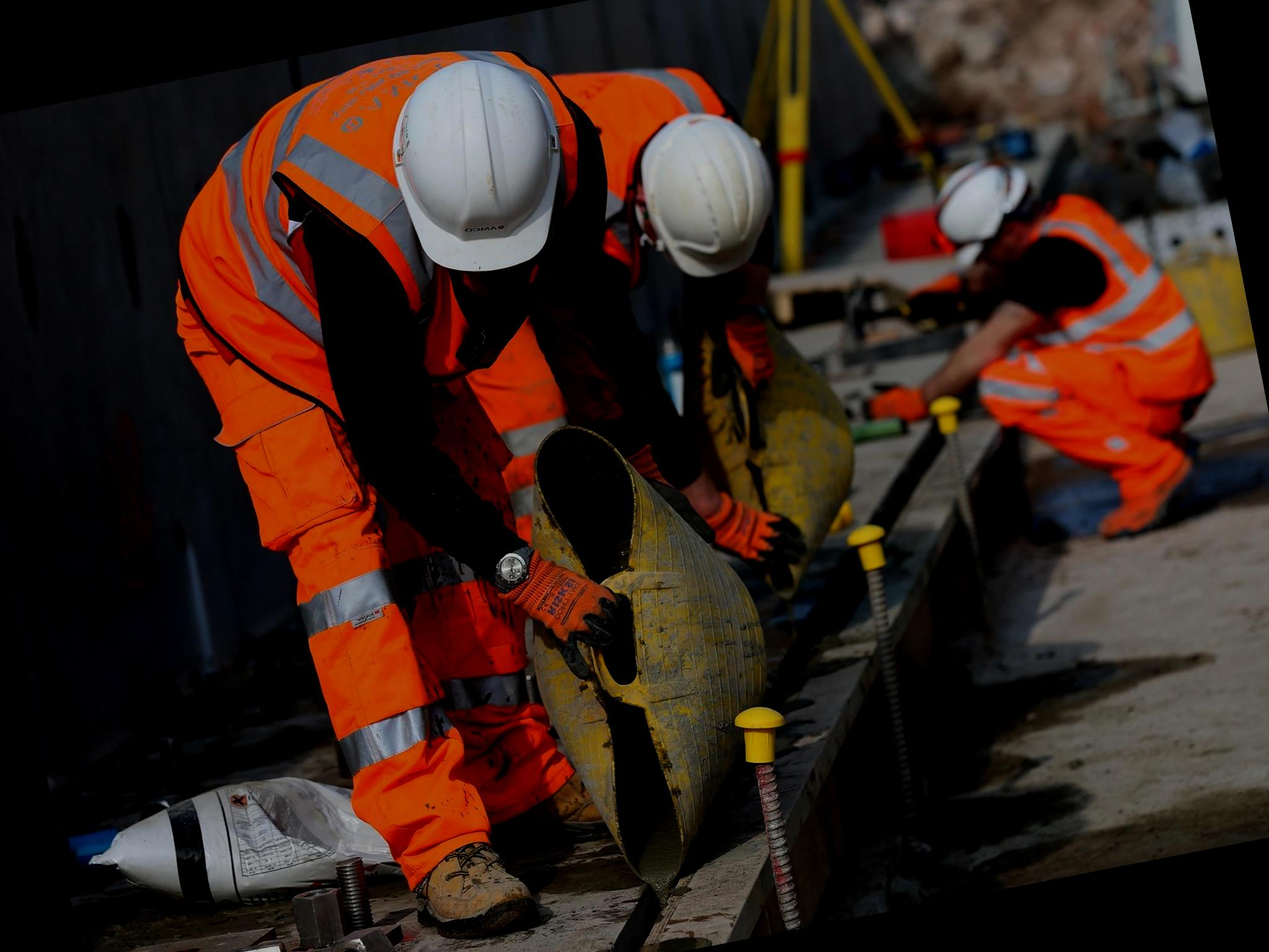helmet: (377, 47, 576, 294), (627, 96, 785, 293)
person: (135, 14, 747, 940), (871, 103, 1258, 585)
